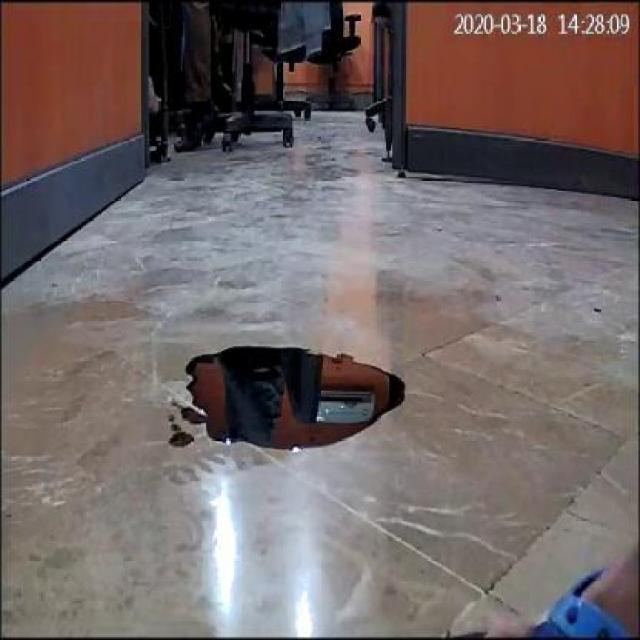spill: (186, 342, 405, 450)
